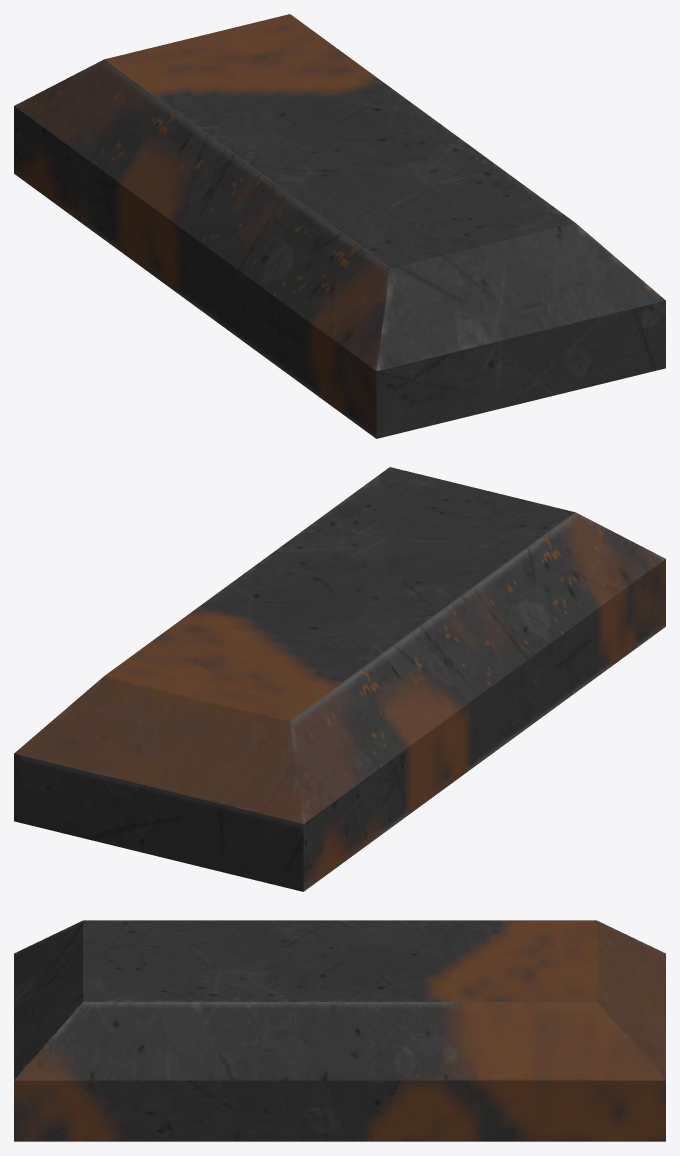
Rendered from SteelIngot.glb.
3 renders of one model, top to bottom at view 1: azimuth 30°, elevation 25°; view 2: azimuth 150°, elevation 25°; view 3: azimuth 270°, elevation 25°, orthographic. The views are drawn at different scales.
Visible parts, largest first — view 1: SteelIngot; view 2: SteelIngot; view 3: SteelIngot.
Part boxes in pixels (x1,y1,x2,y2): SteelIngot: (14,14,665,438); SteelIngot: (14,467,665,891); SteelIngot: (14,920,665,1141).
Size of the model in its own units: 0.2206 by 0.0945 by 0.4784.
1 material, 1 textured.
